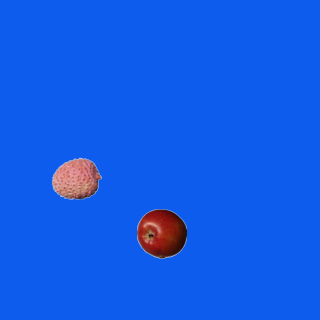Apple Braeburn: (136, 208, 186, 258)
Lychee: (51, 153, 101, 203)
